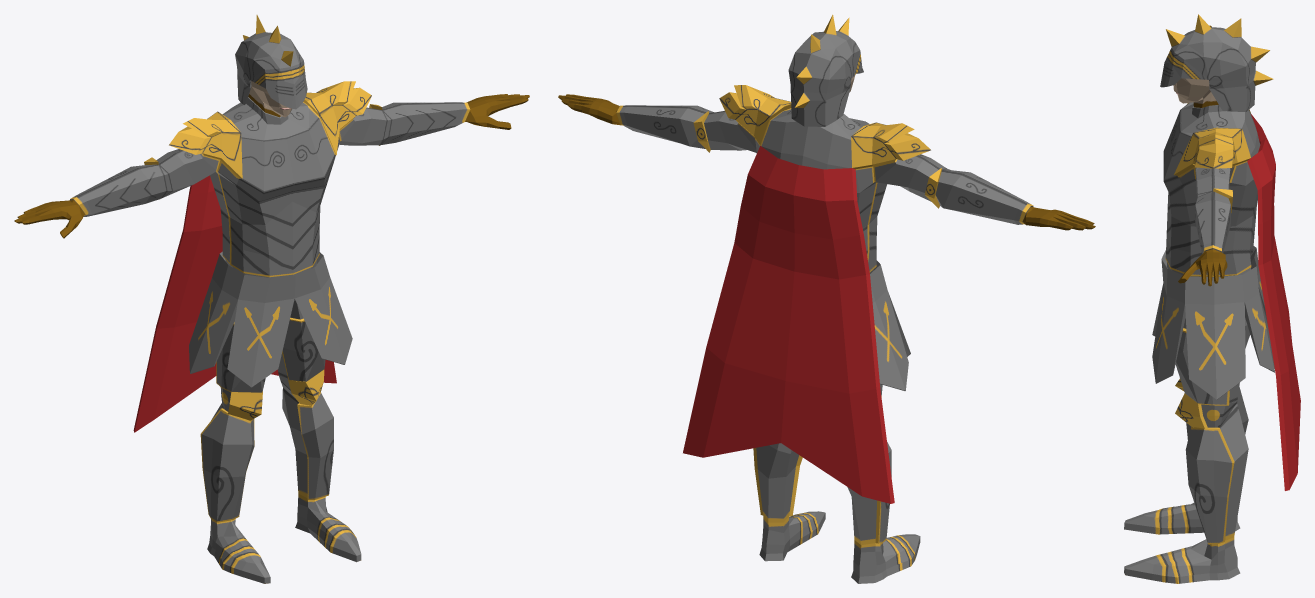
File: NPC_Koszenresze.fbx
3 views of the same model, side by side, from view 1: azimuth 30°, elevation 25°; view 2: azimuth 150°, elevation 25°; view 3: azimuth 270°, elevation 25° (orthographic). The views are drawn at different scales.
Visible parts, largest first — view 1: Cube; view 2: Cube; view 3: Cube.
Part boxes in pixels (x1,y1,x2,y2): Cube: (14,15,529,583); Cube: (558,14,1095,583); Cube: (1124,14,1300,583).
Bounding box in the file's own units: 169 × 164 × 48.96.
